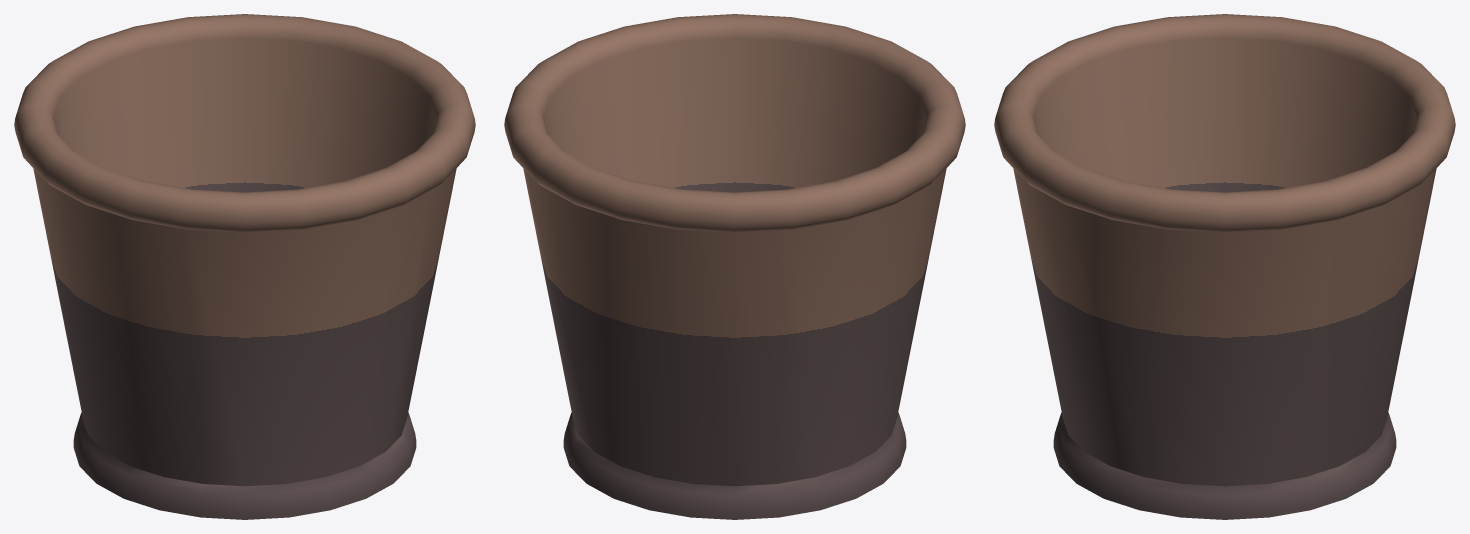
File: cesto_organic.fbx
The picture shows the model from 3 angles, left to right: view 1: azimuth 30°, elevation 25°; view 2: azimuth 150°, elevation 25°; view 3: azimuth 270°, elevation 25°; orthographic projection.
Visible parts, largest first — view 1: cesto_organic; view 2: cesto_organic; view 3: cesto_organic.
Part boxes in pixels (left/top/right/bottom): cesto_organic: left=14, top=14, right=475, bottom=519; cesto_organic: left=504, top=14, right=965, bottom=519; cesto_organic: left=994, top=14, right=1455, bottom=519.
Size of the model in its own units: 148 by 121 by 148.
